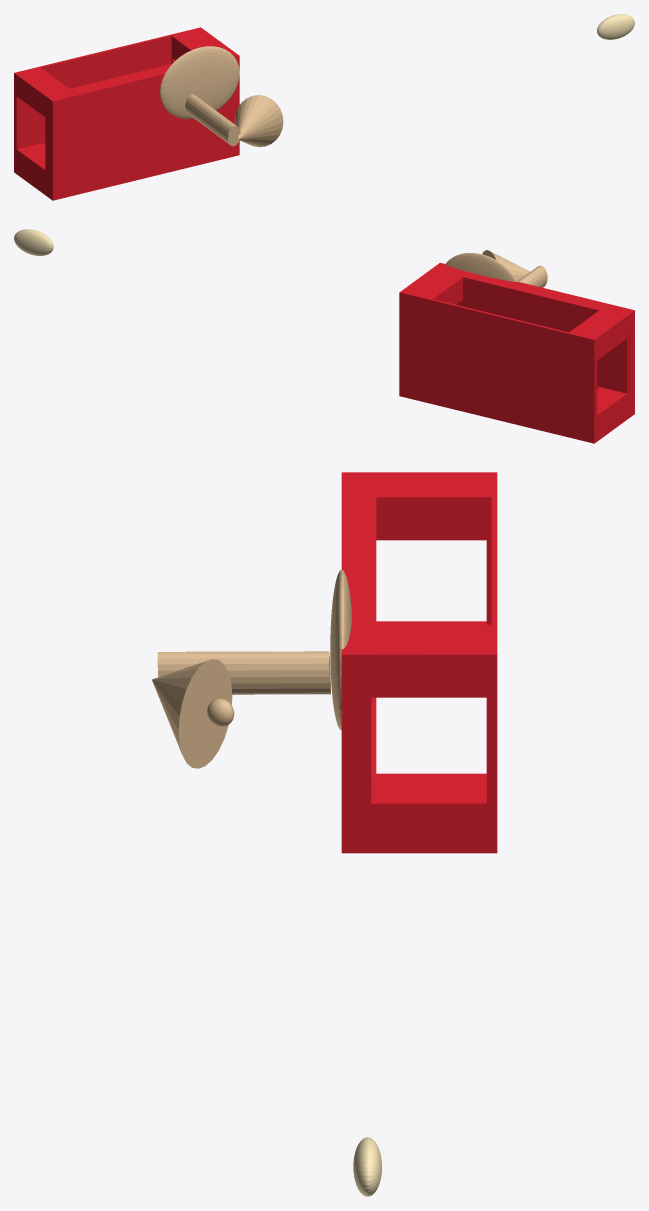
Rendered from tinker.obj.
3 renders of one model, top to bottom at view 1: azimuth 30°, elevation 25°; view 2: azimuth 150°, elevation 25°; view 3: azimuth 270°, elevation 25°, orthographic. The views are drawn at different scales.
Parts seen in each view (by area): view 1: group_0_15277357, group_0_14860437, group_0_16311991; view 2: group_0_15277357, group_0_14860437, group_0_16311991; view 3: group_0_15277357, group_0_14860437, group_0_16311991.
Boxes of the visible parts, <box> form: group_0_15277357: <box>14,27,239,200</box>; group_0_14860437: <box>160,46,283,146</box>; group_0_16311991: <box>597,14,634,39</box>; group_0_15277357: <box>399,263,634,443</box>; group_0_14860437: <box>445,250,547,287</box>; group_0_16311991: <box>14,229,53,255</box>; group_0_15277357: <box>341,472,497,853</box>; group_0_14860437: <box>152,569,351,768</box>; group_0_16311991: <box>353,1137,381,1196</box>.
Bounding box in the file's own units: 236 × 45 × 60.
